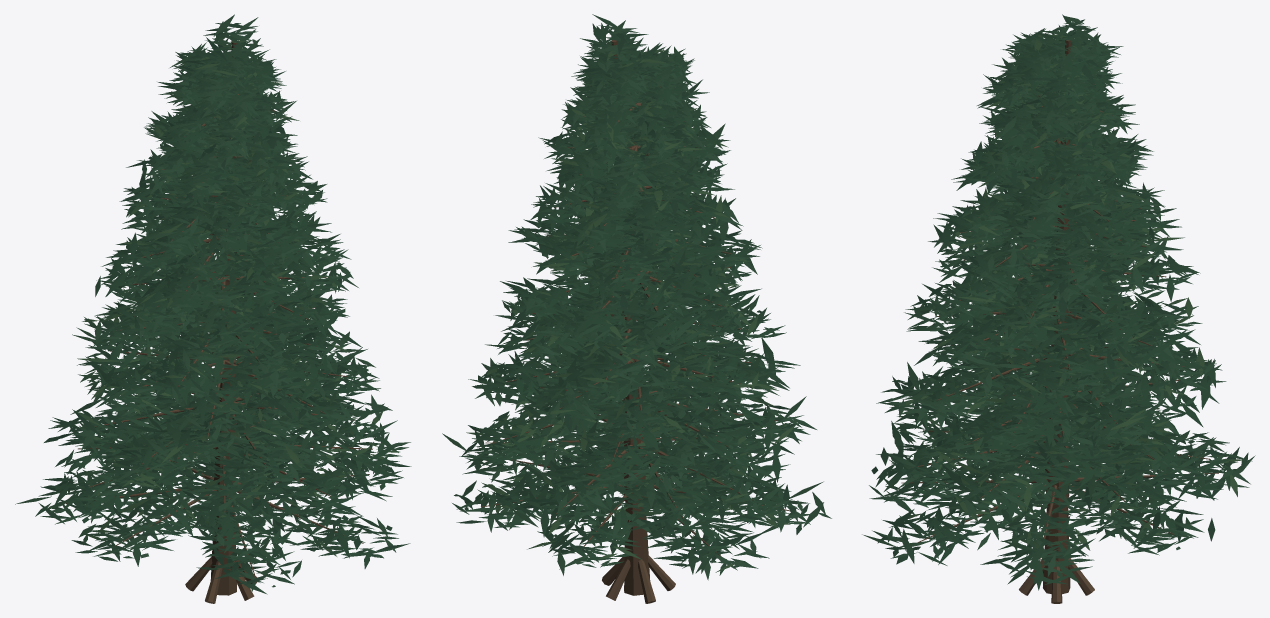
File: pine.glb
3 views of the same model, side by side, from view 1: azimuth 30°, elevation 25°; view 2: azimuth 150°, elevation 25°; view 3: azimuth 270°, elevation 25° (orthographic). The views are drawn at different scales.
Visible parts, largest first — view 1: pine; view 2: pine; view 3: pine.
Part boxes in pixels (x1,y1,x2,y2): pine: (15, 14, 411, 603); pine: (442, 14, 831, 603); pine: (862, 14, 1255, 603).
Bounding box in the file's own units: 4.7 × 7.21 × 4.44.
